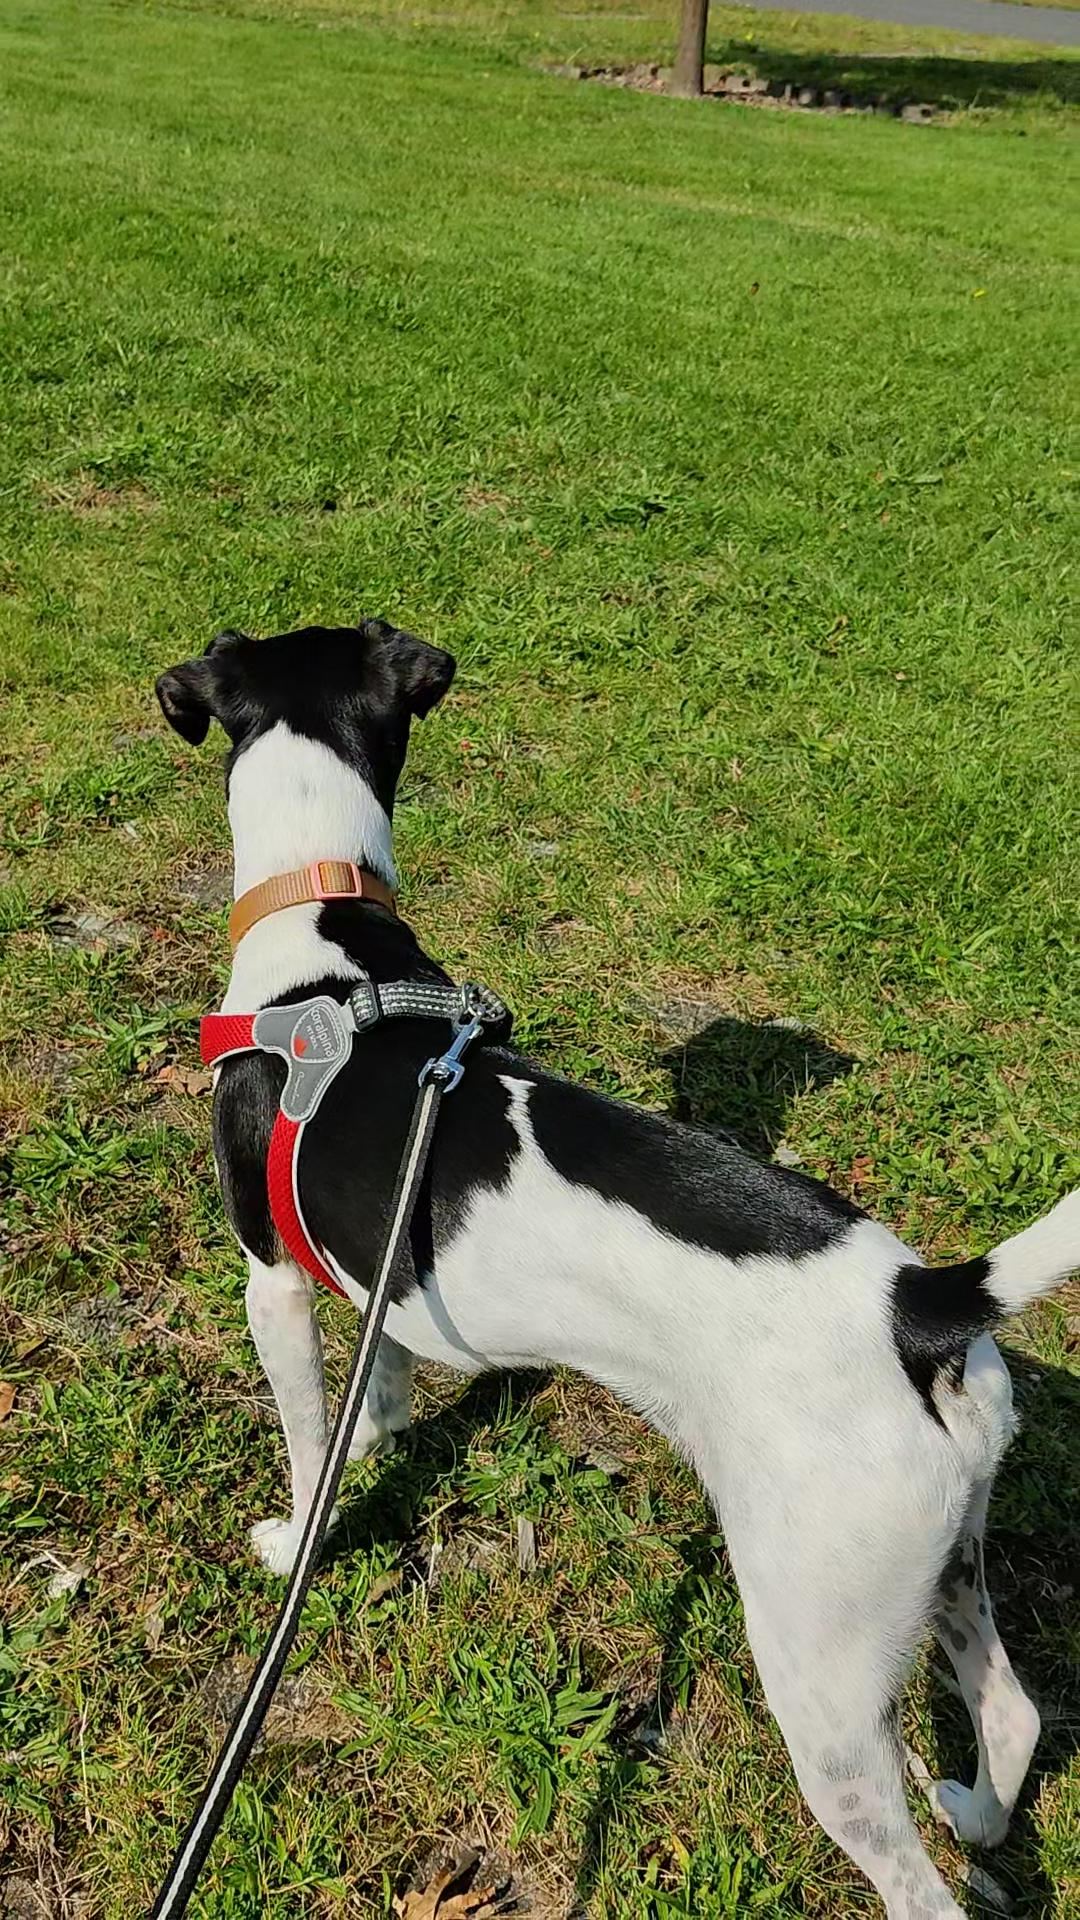Dog: (148, 611, 1079, 1919)
